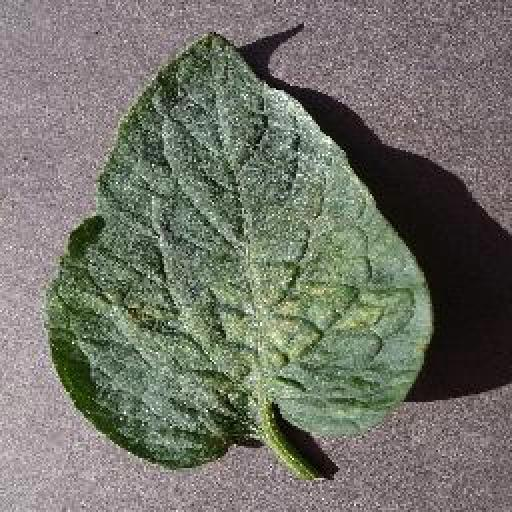disease_tomato: (44, 28, 434, 470)
